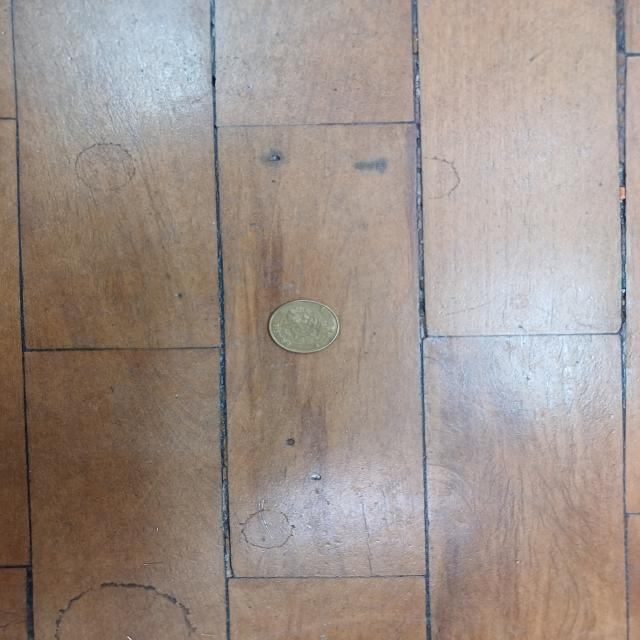25 cents: (268, 299, 342, 354)
